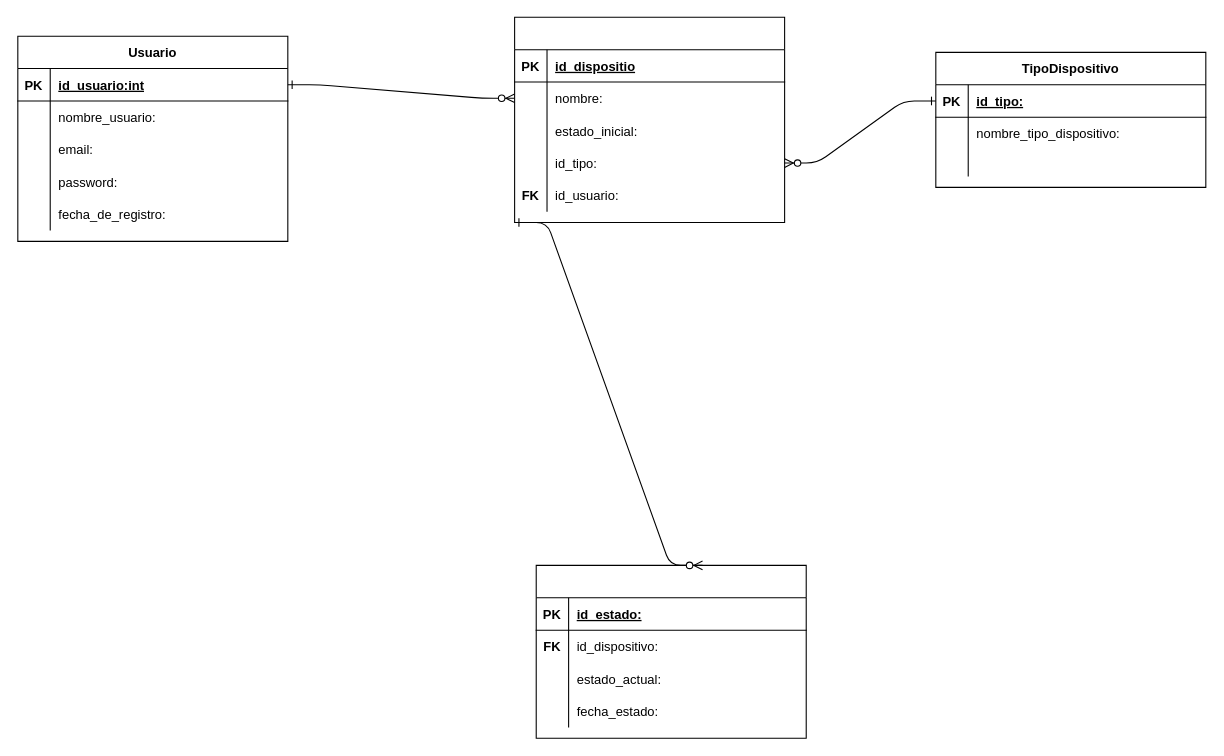
Image size: 1224x756. Some labels were removed from this diagram. Here are the shapes that lost their labels. From the top down, the box of each, then its label:
(514, 16, 785, 222): Dispositivo
(535, 564, 806, 738): RegistroEstadoDispositivo
